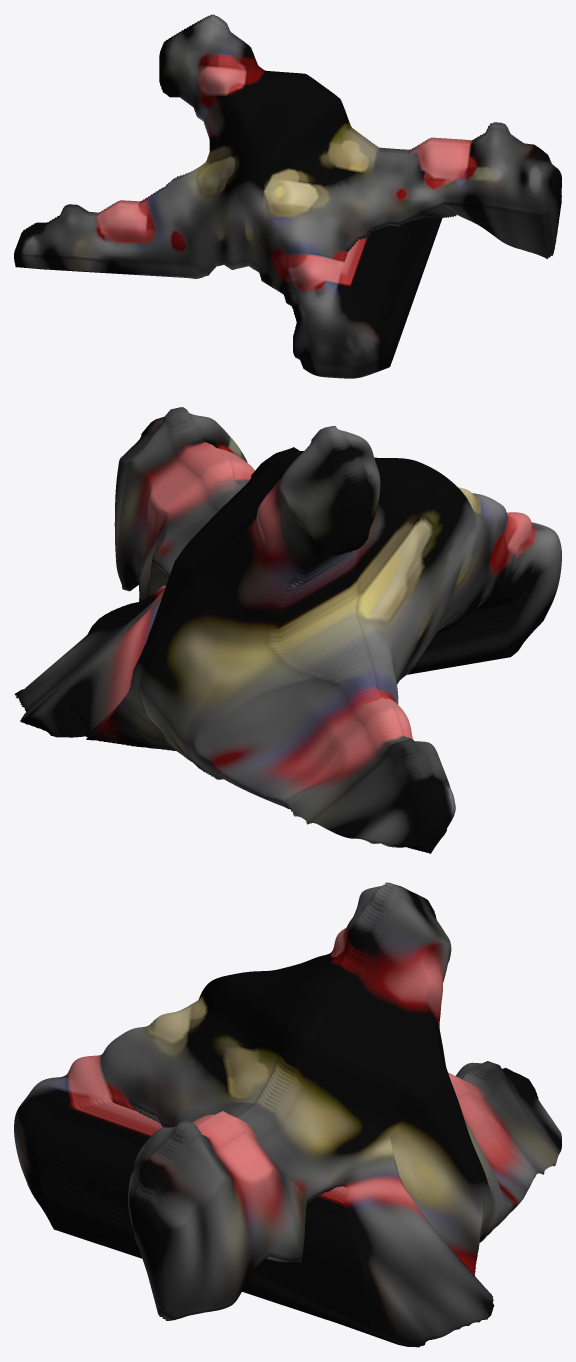
File: soviet_flak_cannon.glb
3 views of the same model, one above another, from view 1: azimuth 30°, elevation 25°; view 2: azimuth 150°, elevation 25°; view 3: azimuth 270°, elevation 25° (orthographic). The views are drawn at different scales.
Parts seen in each view (by area): view 1: soviet_flak_cannon; view 2: soviet_flak_cannon; view 3: soviet_flak_cannon.
Part boxes in pixels (x1,y1,x2,y2): soviet_flak_cannon: (14,14,561,378); soviet_flak_cannon: (14,407,561,853); soviet_flak_cannon: (14,882,561,1347).
Bounding box in the file's own units: 1.86 × 1.16 × 1.79.
